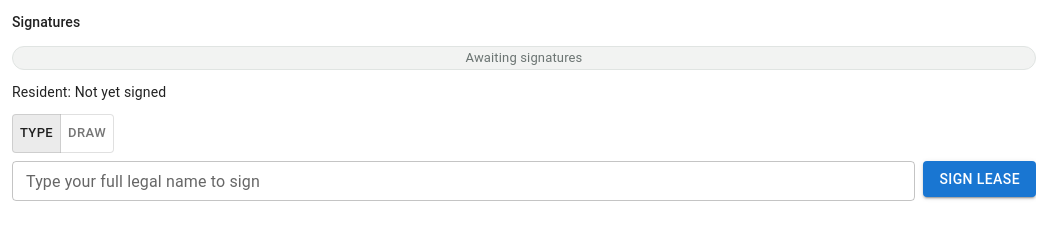
Test: will not sign without a name and shows the required error
Click the button "Sign lease" at (980, 179), box left=923, top=161, right=1036, bottom=197
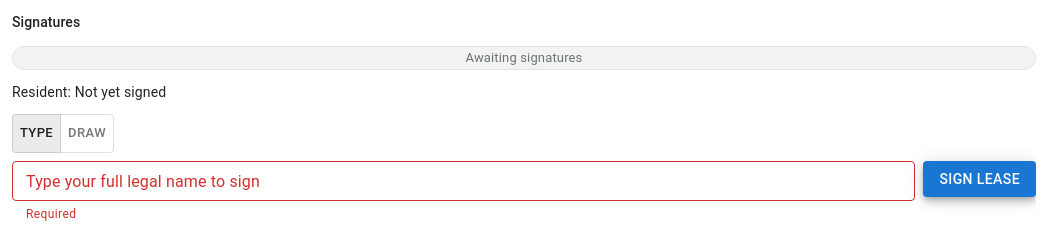
expect the text "Required" is shown: met, box left=26, top=207, right=76, bottom=221
